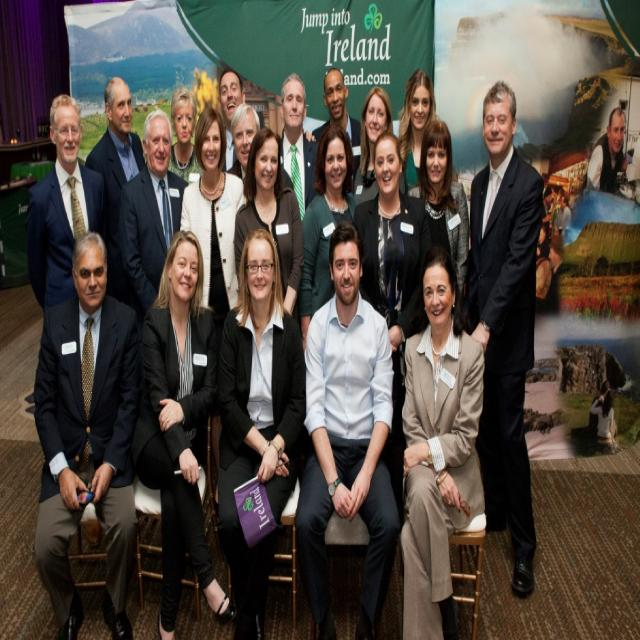body: (28, 227, 142, 639), (459, 76, 546, 598), (136, 228, 240, 639), (302, 217, 396, 639), (394, 241, 486, 639), (213, 224, 300, 639), (352, 128, 433, 520), (176, 105, 248, 510), (22, 91, 120, 312), (119, 111, 191, 337), (299, 123, 367, 361), (234, 126, 304, 318), (406, 117, 470, 300), (81, 75, 148, 237), (308, 67, 370, 195), (534, 159, 585, 298), (352, 84, 406, 209), (276, 72, 320, 225), (224, 102, 296, 192), (395, 67, 442, 199), (586, 106, 629, 196), (166, 85, 206, 181), (218, 66, 246, 173), (590, 385, 617, 446), (588, 378, 610, 436)
